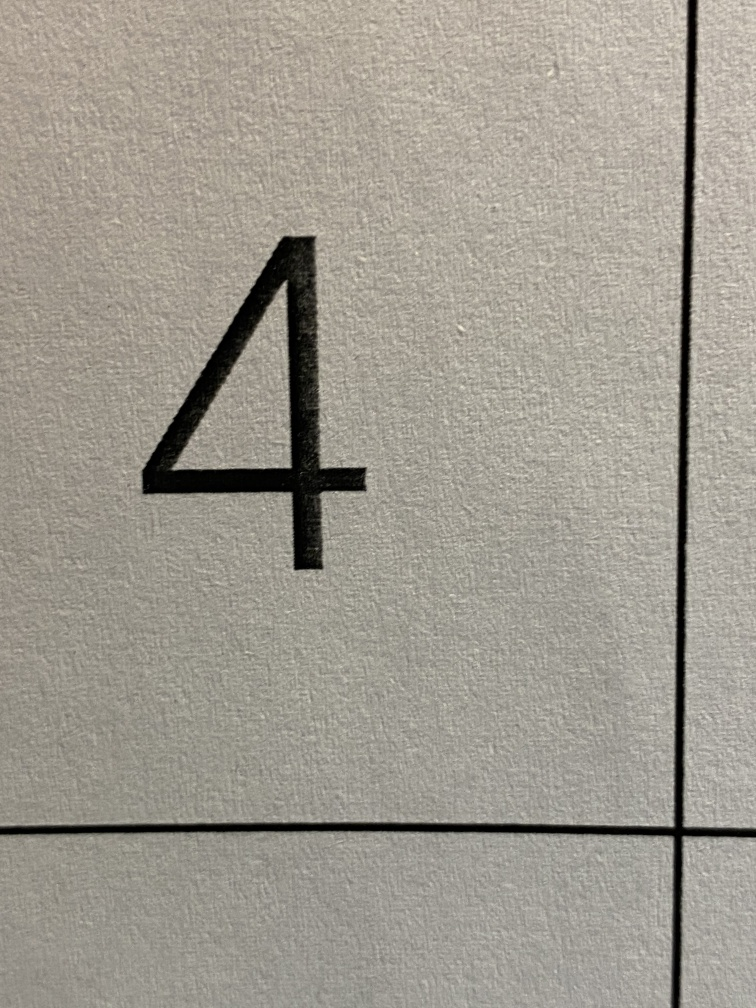four: (116, 191, 449, 614)
